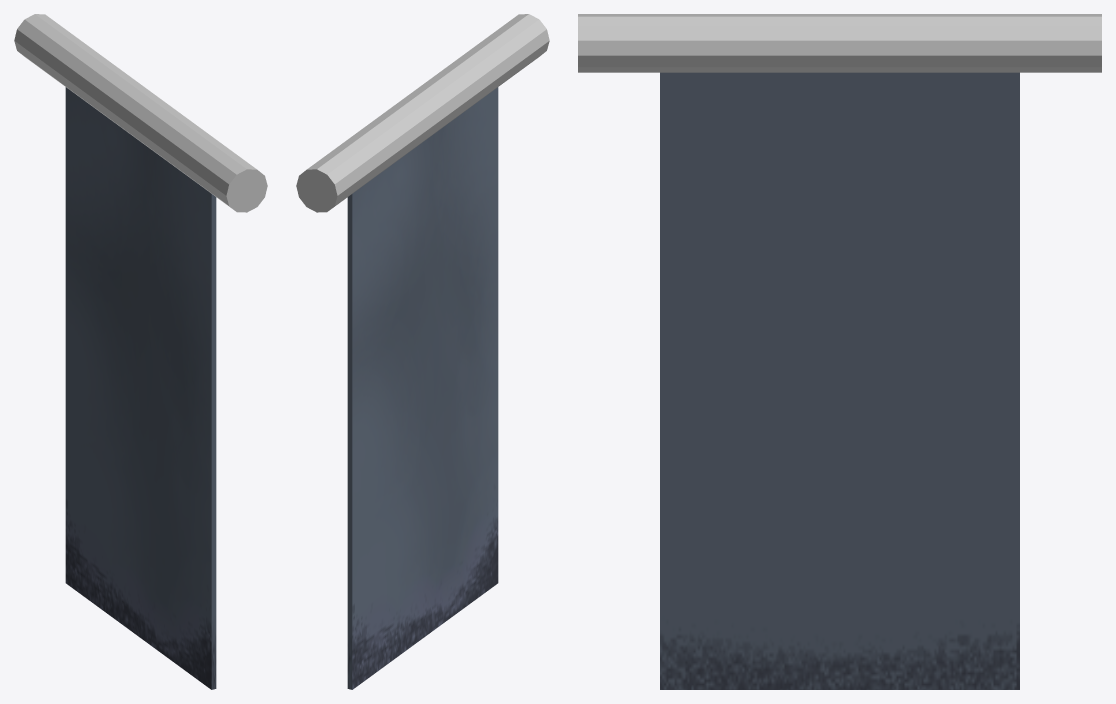
Rendered from Prop_Curtains.fbx.
The picture shows the model from 3 angles, left to right: view 1: azimuth 30°, elevation 25°; view 2: azimuth 150°, elevation 25°; view 3: azimuth 270°, elevation 25°; orthographic projection. The views are drawn at different scales.
Visible parts, largest first — view 1: Cube.014, Cube.001; view 2: Cube.014, Cube.001; view 3: Cube.014, Cube.001.
Boxes of the visible parts, x1,y1,x2,y2 form: Cube.014: (65,87,216,689); Cube.001: (14,14,267,212); Cube.014: (347,87,498,689); Cube.001: (296,14,549,212); Cube.014: (660,72,1019,689); Cube.001: (578,14,1101,72).
Bounding box in the file's own units: 19.51 × 246 × 174.
